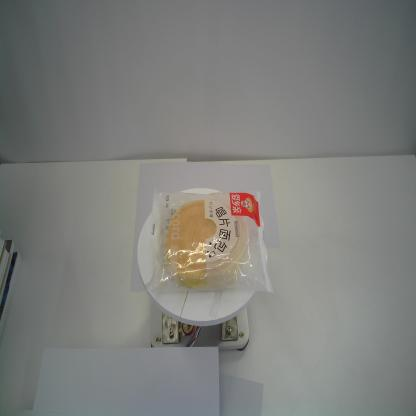Dessert: (146, 190, 273, 293)
